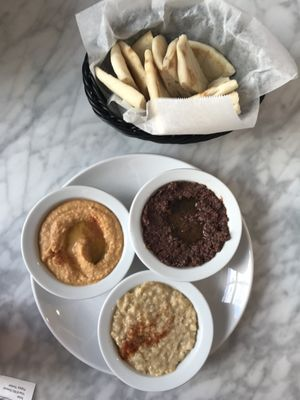sushi: (81, 13, 286, 145), (82, 30, 242, 139), (97, 268, 214, 393), (20, 186, 136, 301), (128, 168, 244, 282)
